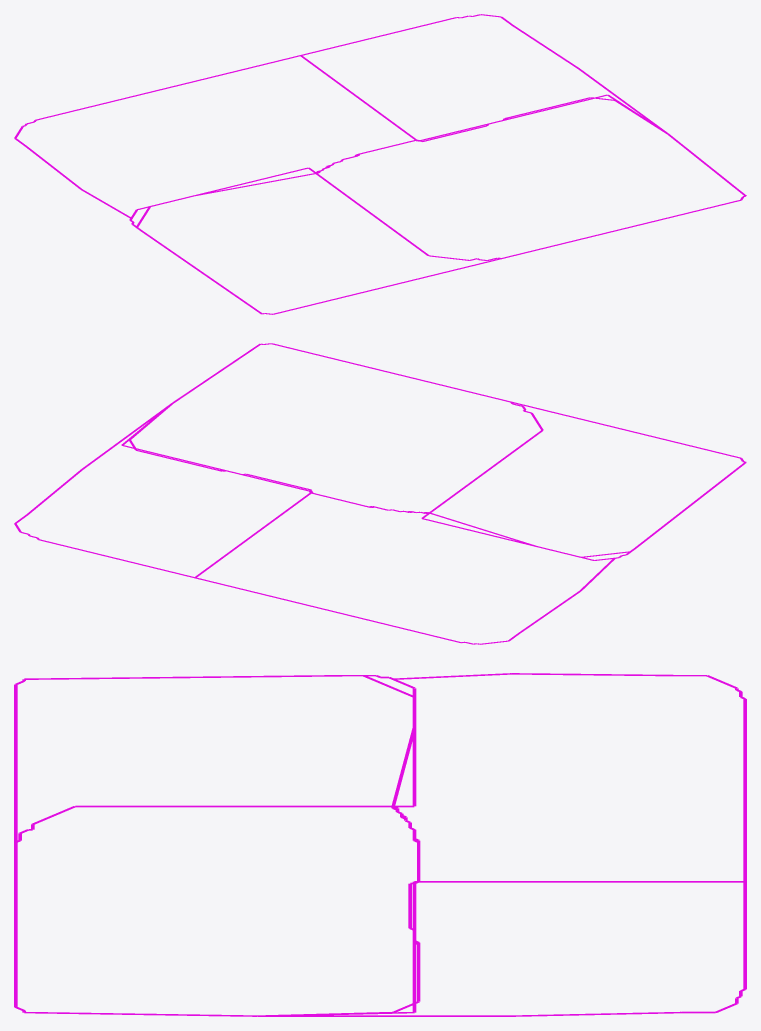
File: autonomous_map_3d_mirror_x_all_planned_preview_light.route_preview_magenta.dae
3 views of the same model, one above another, from view 1: azimuth 30°, elevation 25°; view 2: azimuth 150°, elevation 25°; view 3: azimuth 270°, elevation 25° (orthographic). The views are drawn at different scales.
Visible parts, largest first — view 1: route_preview_node; view 2: route_preview_node; view 3: route_preview_node.
Part boxes in pixels (x1=…): route_preview_node: x1=14, y1=14, x2=746, y2=314; route_preview_node: x1=14, y1=343, x2=746, y2=644; route_preview_node: x1=14, y1=673, x2=746, y2=1016.
Bounding box in the file's own units: 4.5 × 4.05 × 0.
